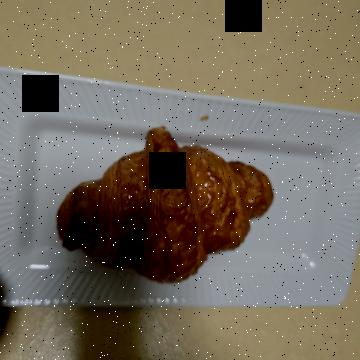croissant: (103, 74, 287, 320)
